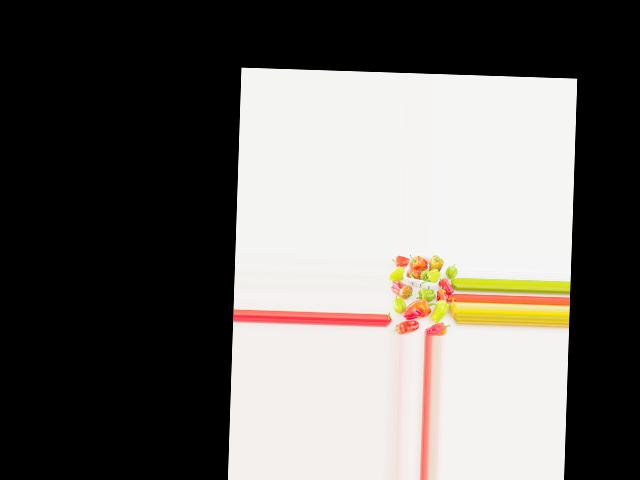bell_pepper: (427, 319, 451, 337)
